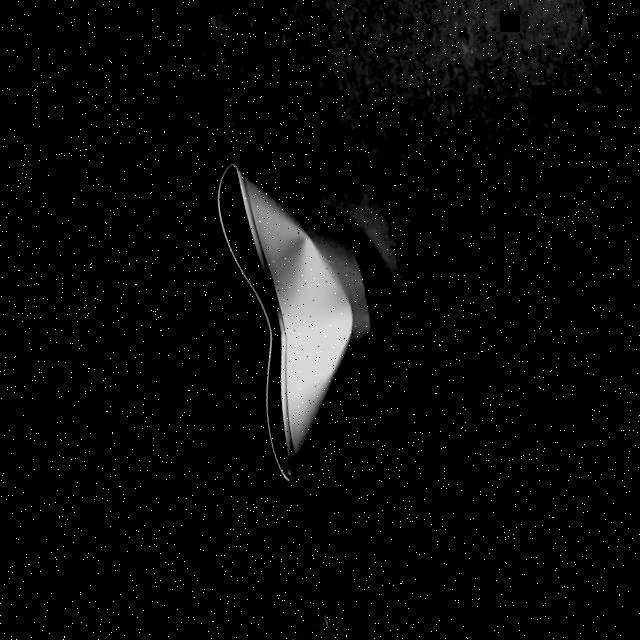can: (198, 135, 410, 487)
